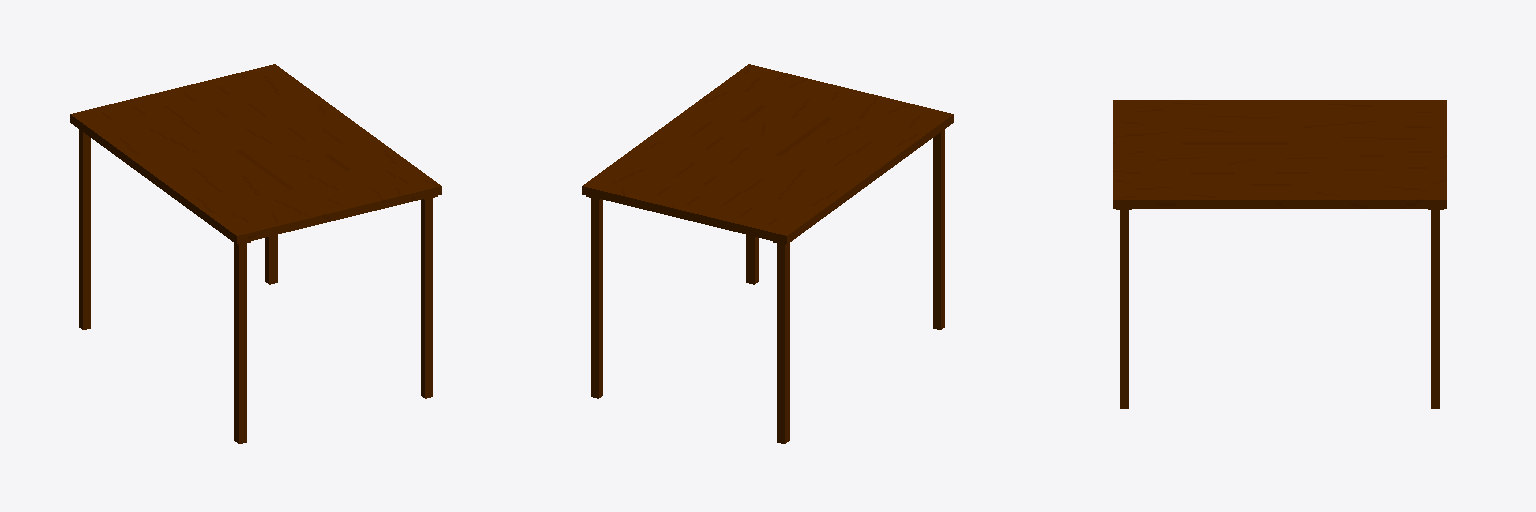
3 views of the same model, side by side, from view 1: azimuth 30°, elevation 25°; view 2: azimuth 150°, elevation 25°; view 3: azimuth 270°, elevation 25° (orthographic).
Visible parts, largest first — view 1: object 1; view 2: object 1; view 3: object 1.
Part boxes in pixels (x1,y1,x2,y2): object 1: (70, 64, 441, 443); object 1: (582, 64, 953, 443); object 1: (1113, 100, 1446, 408).
Bounding box in the file's own units: 7.6 × 7.5 × 10.7.
Materials: 1 (1 with a texture image).